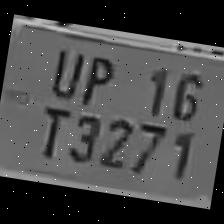1: (158, 120, 198, 184), (136, 55, 174, 118)
2: (94, 110, 134, 173)
3: (61, 105, 103, 166)
6: (164, 62, 205, 122)
7: (123, 114, 167, 181)
P: (74, 45, 120, 109)
T: (30, 98, 72, 161)
U: (41, 40, 86, 102)
